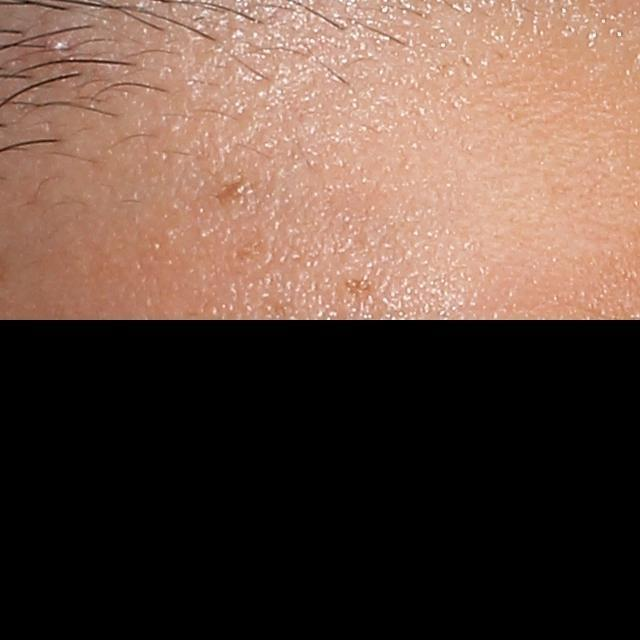comedo: (43, 36, 70, 56)
melasma: (246, 289, 305, 328), (223, 232, 273, 275), (212, 173, 256, 210), (342, 276, 368, 301)
